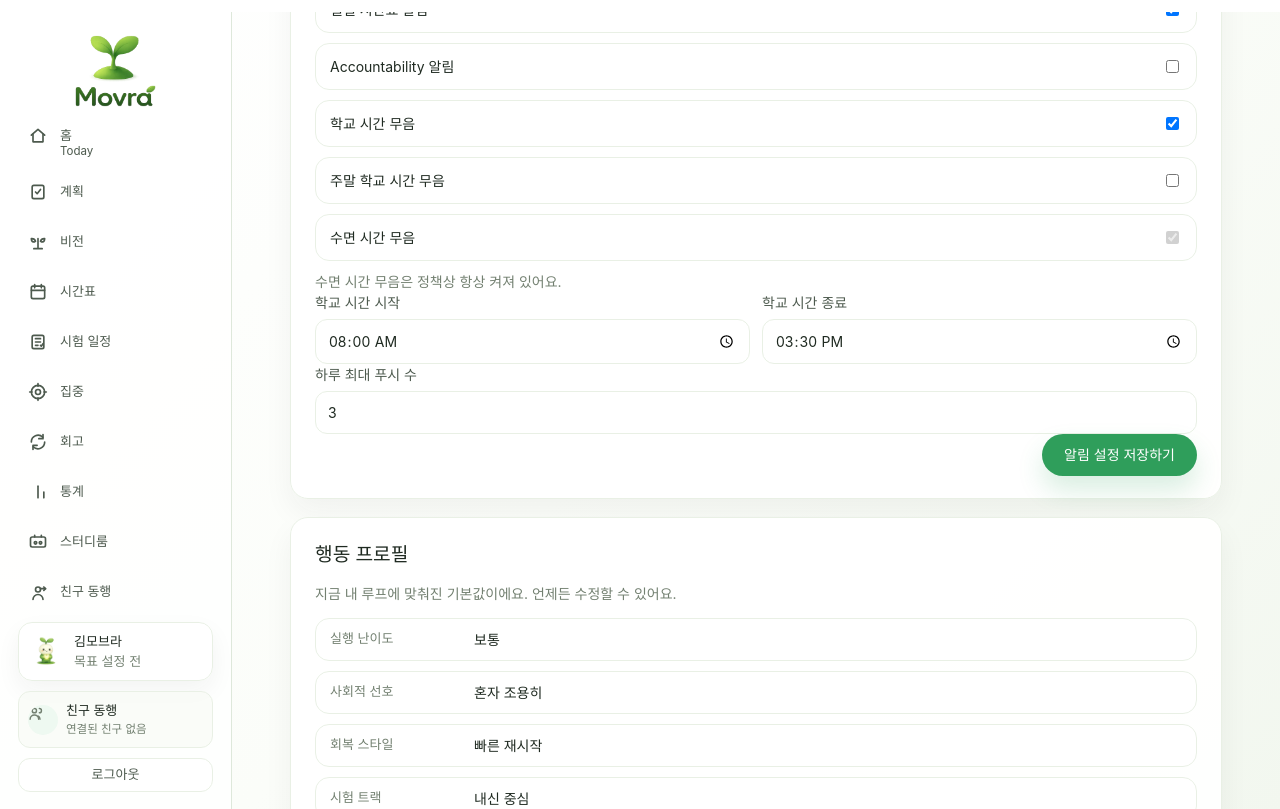
Test: SettingsPage notification section › blocks save when max daily push count exceeds 10
(page scrolled)
Replace the text in the number field labelled "하루 최대 푸시 수" with "11" at x=756, y=412, box [315,391,1197,434]
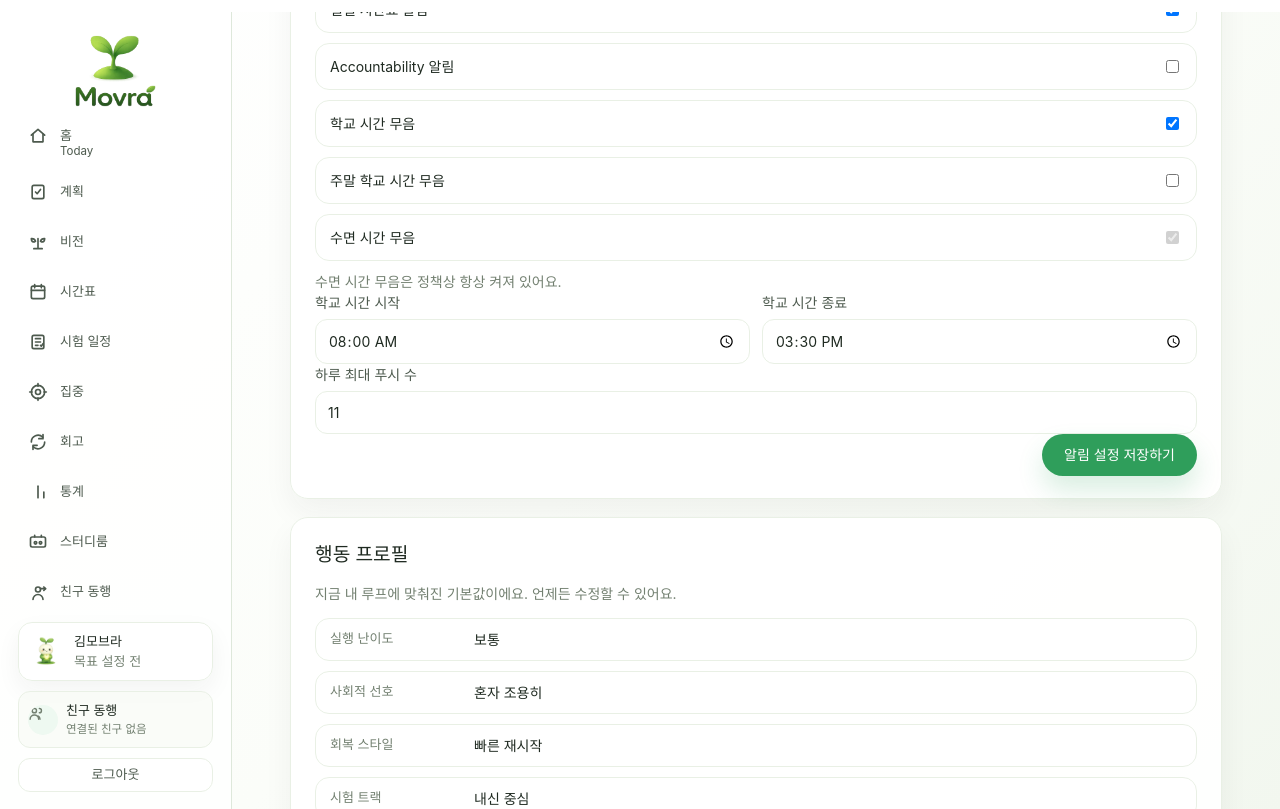
Click the button "알림 설정 저장하기" at x=1120, y=455, box [1042,434,1197,476]
(page scrolled)
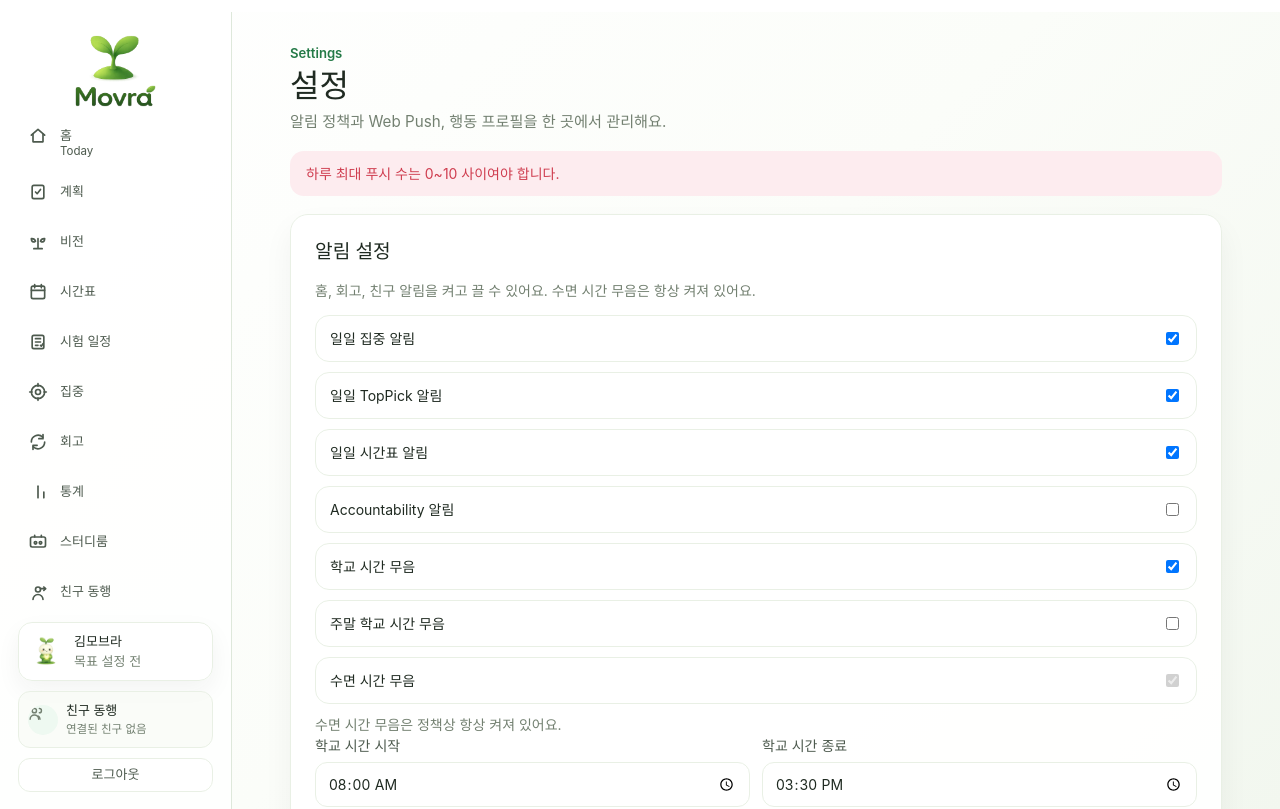
expect the text "하루 최대 푸시 수는 0~10 사이여야 합니다." is shown: met, box [290,151,1222,196]
